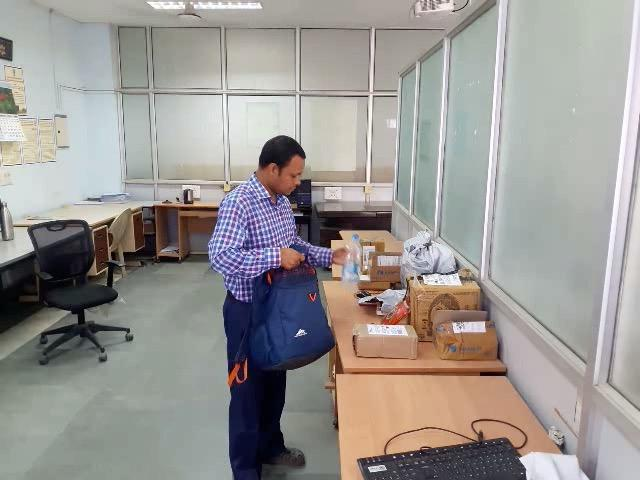shoplifting: (211, 230, 372, 384)
